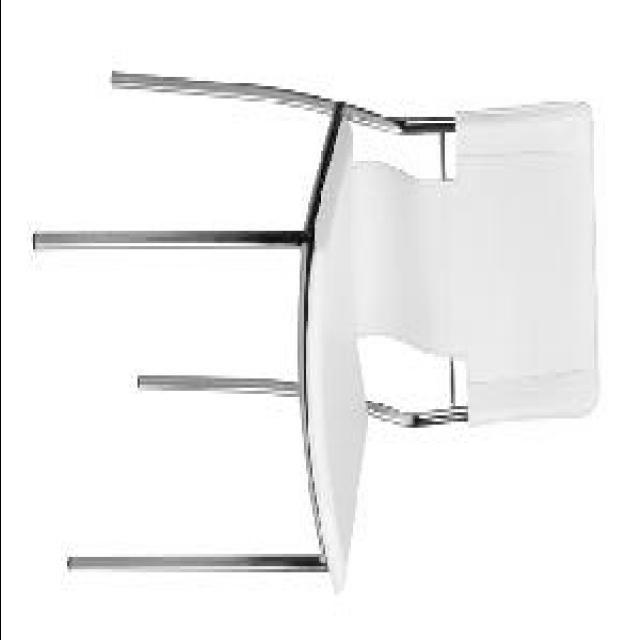chair: (30, 67, 600, 594)
